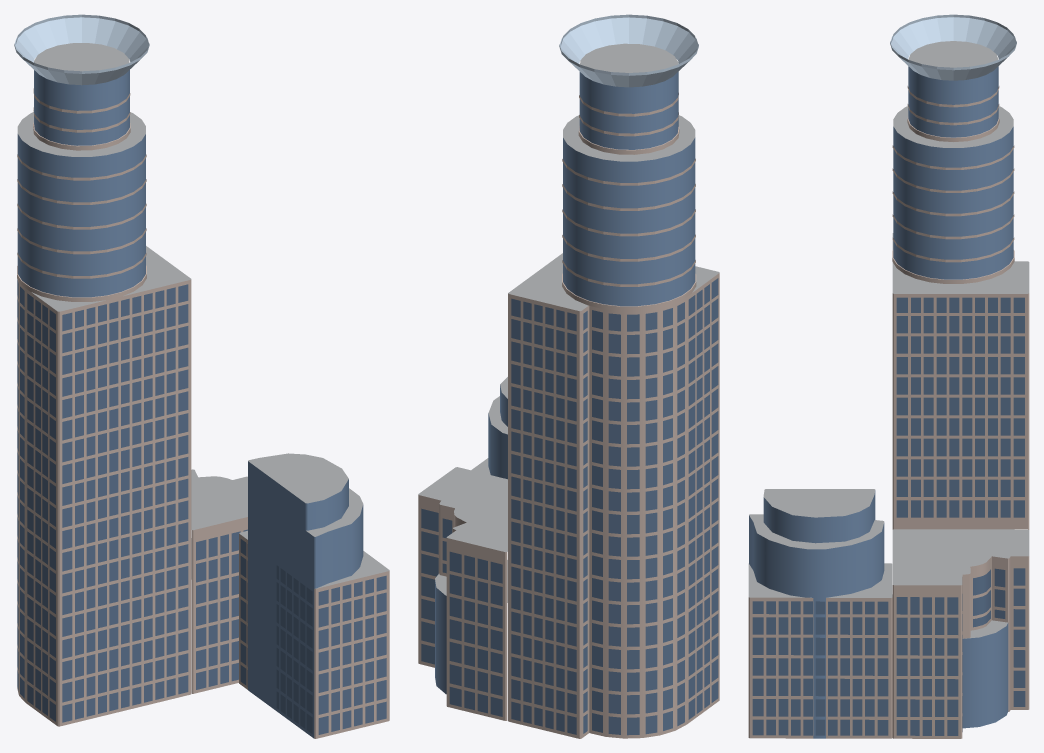
Rendered from msp-capella-tower.glb.
3 renders of one model, left to right at view 1: azimuth 30°, elevation 25°; view 2: azimuth 150°, elevation 25°; view 3: azimuth 270°, elevation 25°, orthographic. The views are drawn at different scales.
Visible parts, largest first — view 1: Capella Tower; view 2: Capella Tower; view 3: Capella Tower.
Part boxes in pixels (box(x1,y1,x2,y2)): Capella Tower: box(14, 14, 389, 738); Capella Tower: box(418, 14, 719, 738); Capella Tower: box(748, 14, 1029, 738).
Size of the model in its own units: 99.44 by 237 by 99.6.
